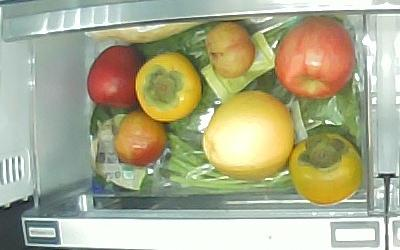apple: (274, 16, 356, 100), (88, 45, 146, 111)
grapefruit: (202, 90, 294, 181)
persimmon: (290, 132, 363, 205), (135, 52, 202, 121)
prune: (115, 110, 168, 167), (206, 21, 256, 79)
